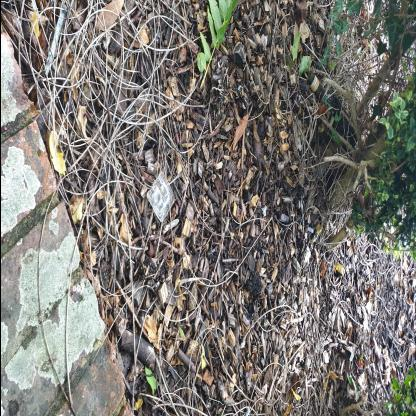plastik: (146, 172, 174, 222)
